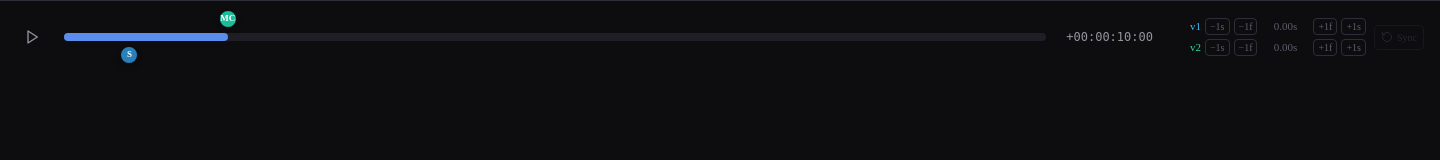
elapsed / remaining timecode › toggles elapsed -> remaining on click, and the sign says which
Click the button with test id "timecode-readout".
click(1110, 37)  # box x1=1062 y1=26 x2=1157 y2=48
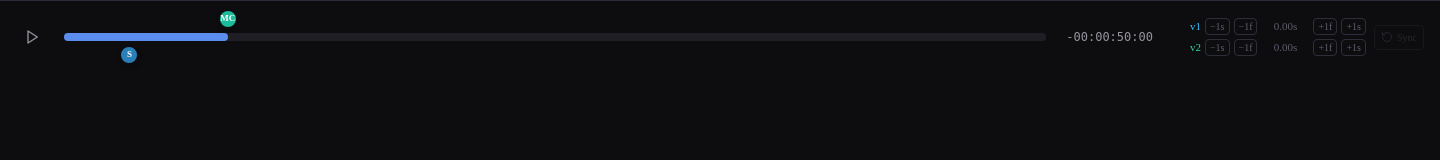
Now the button with test id "timecode-readout" reads "-00:00:50:00"
Click the button with test id "timecode-readout".
click(1110, 37)  # box x1=1062 y1=26 x2=1157 y2=48
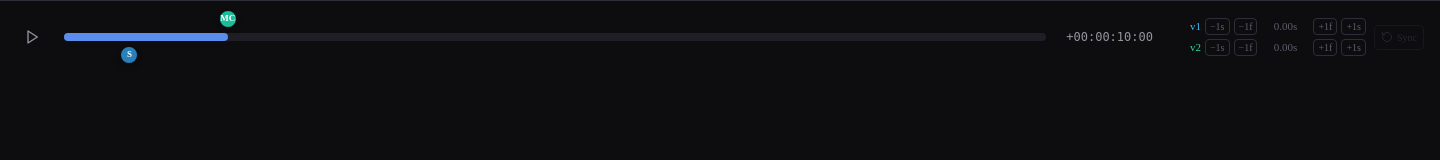
Now the button with test id "timecode-readout" reads "+00:00:10:00", box x1=1062 y1=26 x2=1157 y2=48
